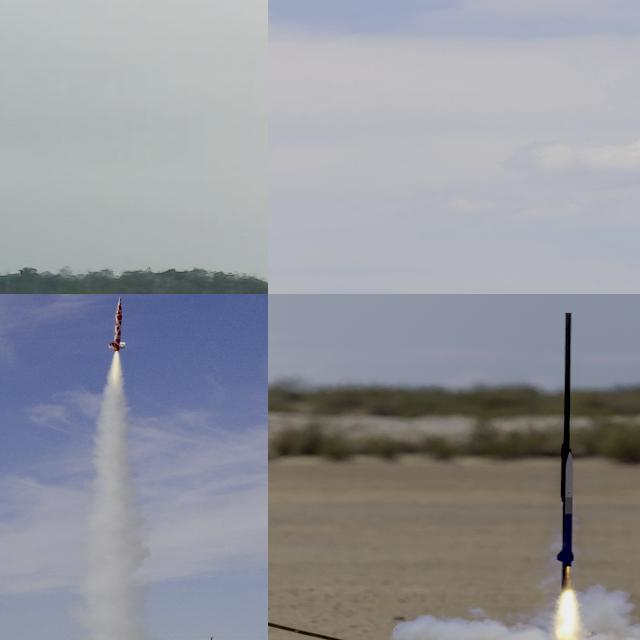Rocket: (557, 451, 576, 568), (108, 296, 126, 352)
